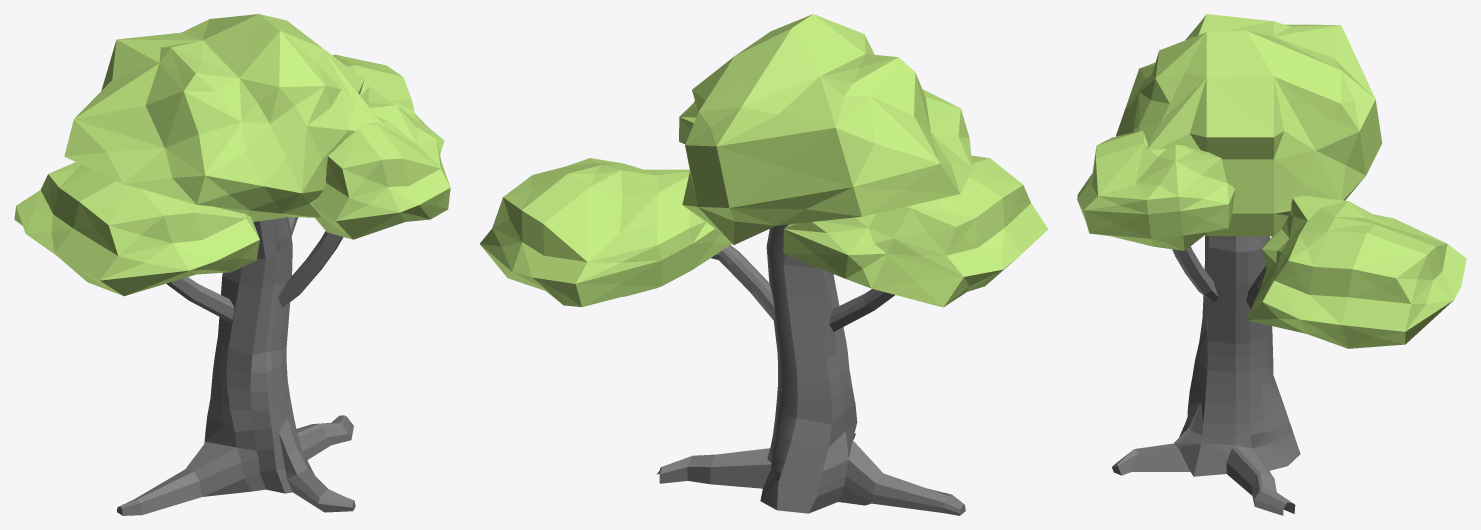
File: arbre_moyen.fbx
3 views of the same model, side by side, from view 1: azimuth 30°, elevation 25°; view 2: azimuth 150°, elevation 25°; view 3: azimuth 270°, elevation 25° (orthographic). The views are drawn at different scales.
Parts seen in each view (by area): view 1: arbre_moyen; view 2: arbre_moyen; view 3: arbre_moyen.
Boxes of the visible parts, x1,y1,x2,y2 form: arbre_moyen: [14, 14, 450, 515]; arbre_moyen: [480, 14, 1048, 515]; arbre_moyen: [1077, 14, 1466, 515].
Size of the model in its own units: 121 by 118 by 95.83.
